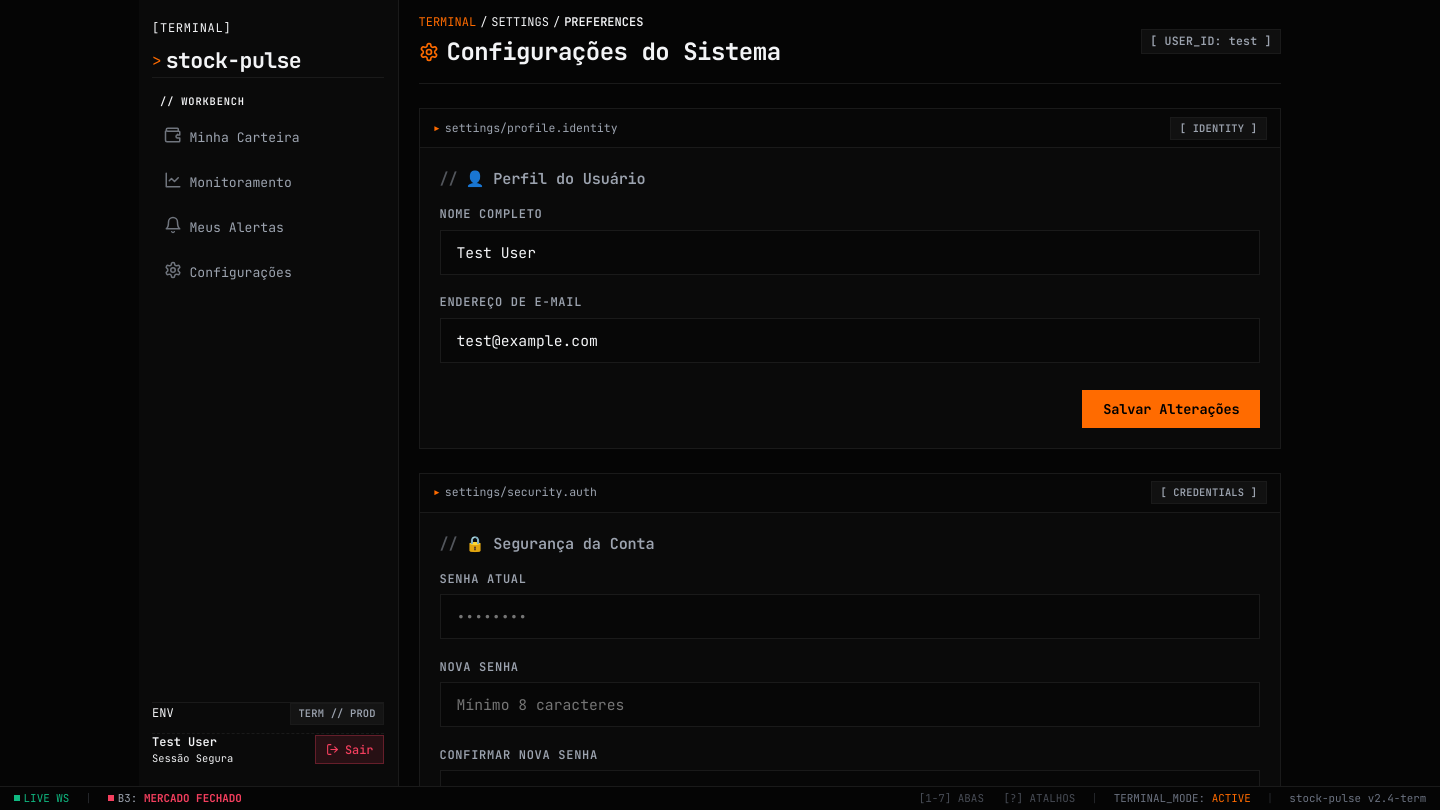
Test: SettingsPage › handles profile updates (success and error flows)
Replace the text in the field showing "Test User" below "Nome Completo" with "Updated Name" at (850, 252), box 440,230 -> 1260,275
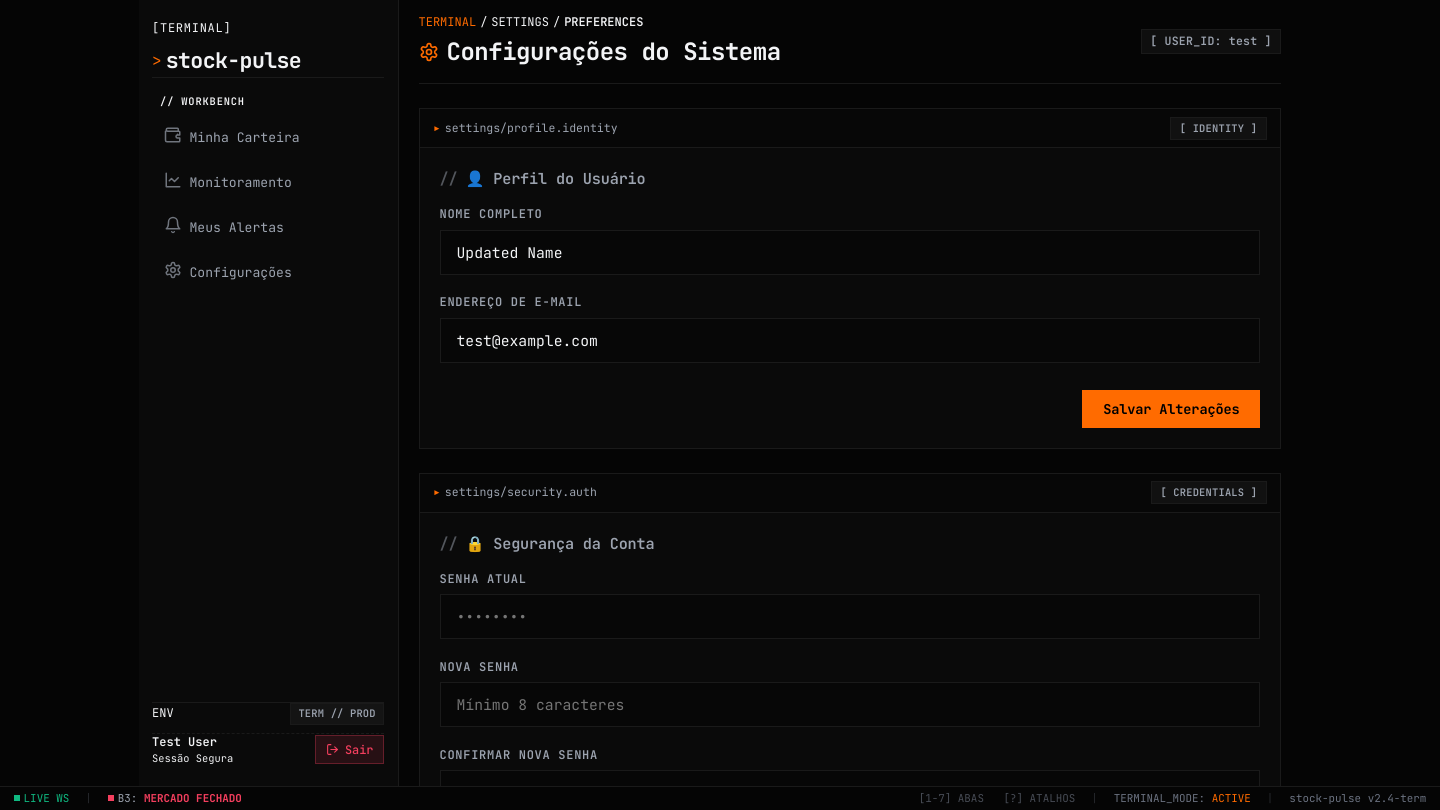
Replace the text in the field showing "test@example.com" below "Endereço de E-mail" with "updated@example.com" at (850, 340), box 440,318 -> 1260,363
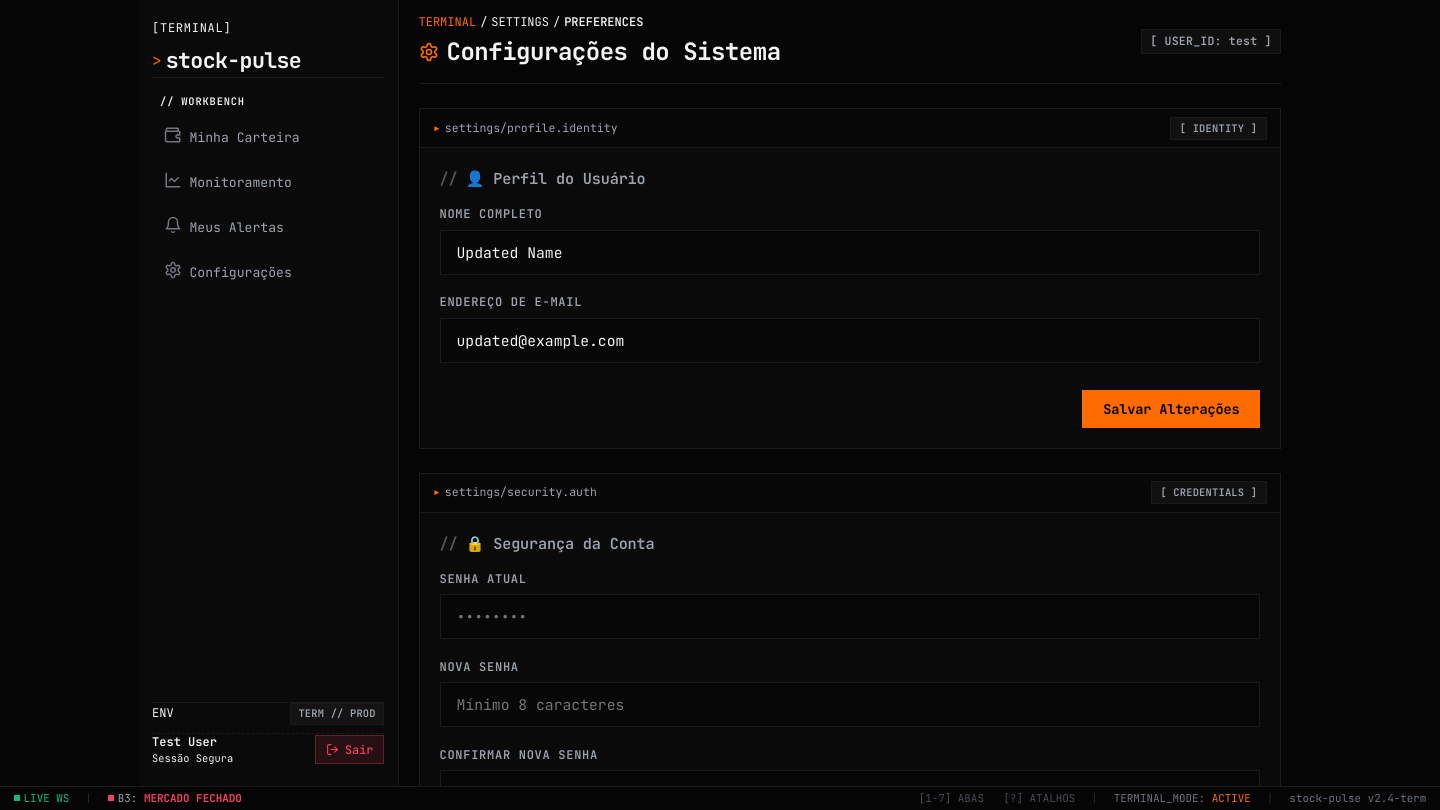
Click the button "Salvar Alterações" at (1171, 409), box 1082,390 -> 1260,428
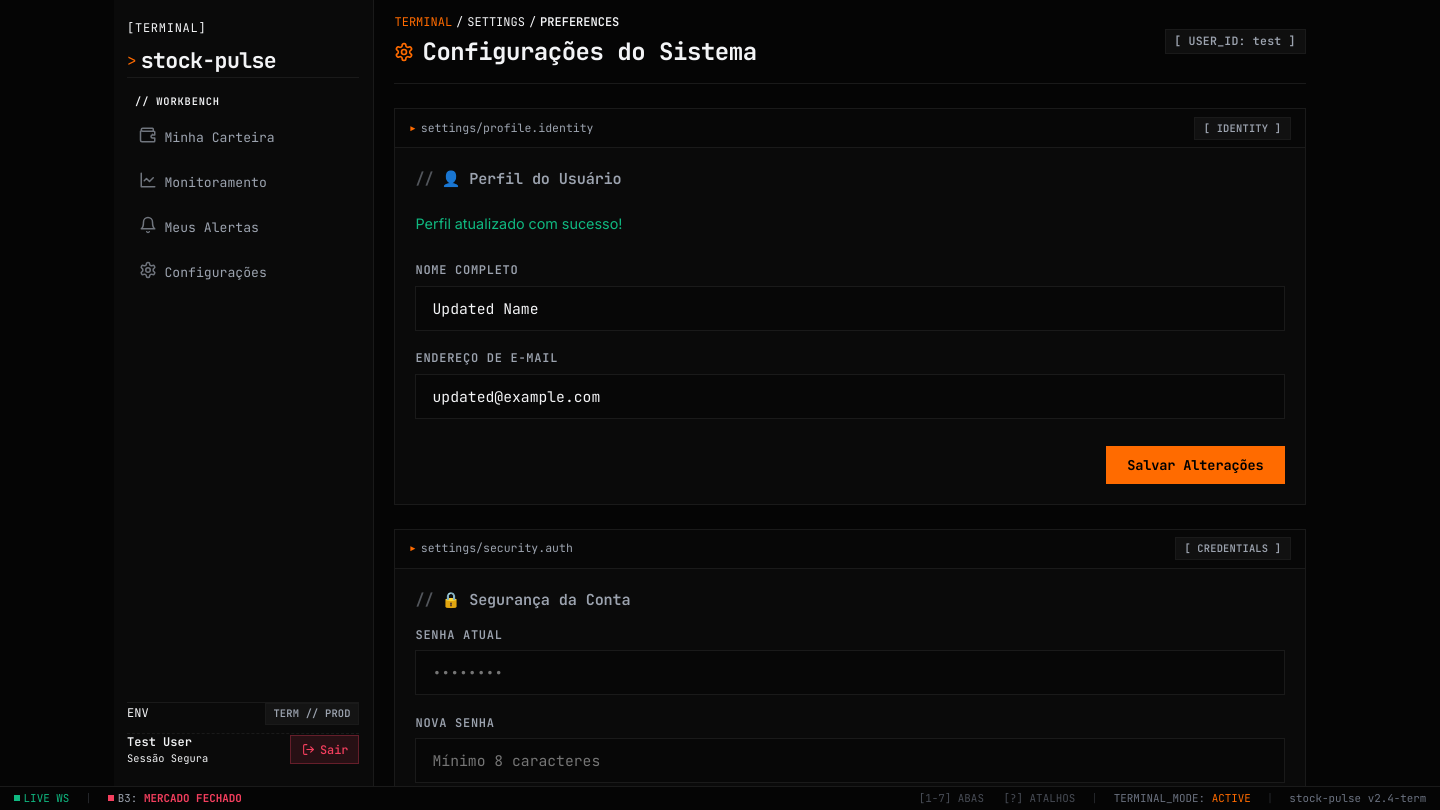
expect the text "Perfil atualizado com sucesso!" is shown: met, box 416,215 -> 622,232
Click the button "Salvar Alterações" at (1195, 465), box 1106,446 -> 1284,484
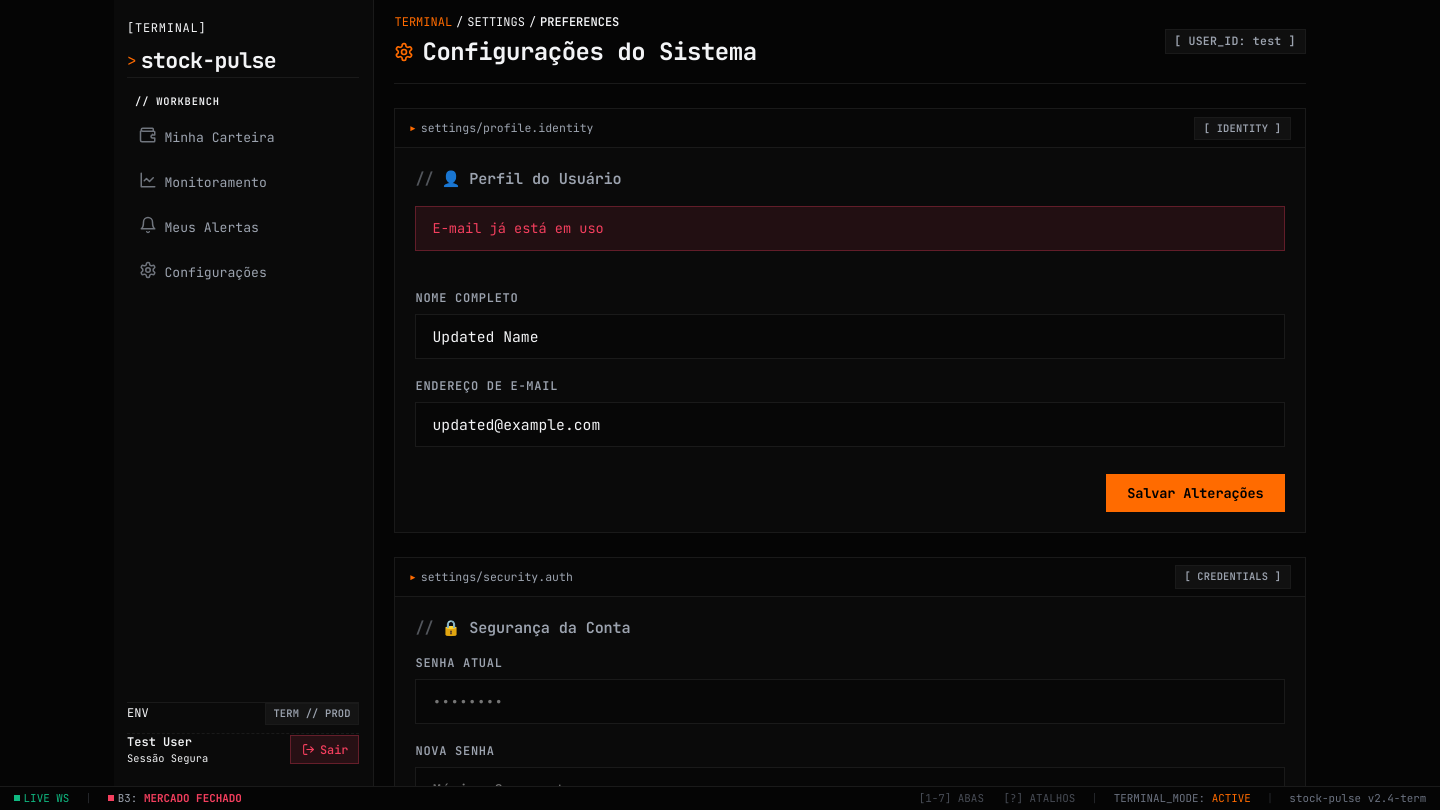
expect the text "E-mail já está em uso" is shown: met, box 416,206 -> 1284,251
Click the button "Salvar Alterações" at (1195, 493), box 1106,474 -> 1284,512
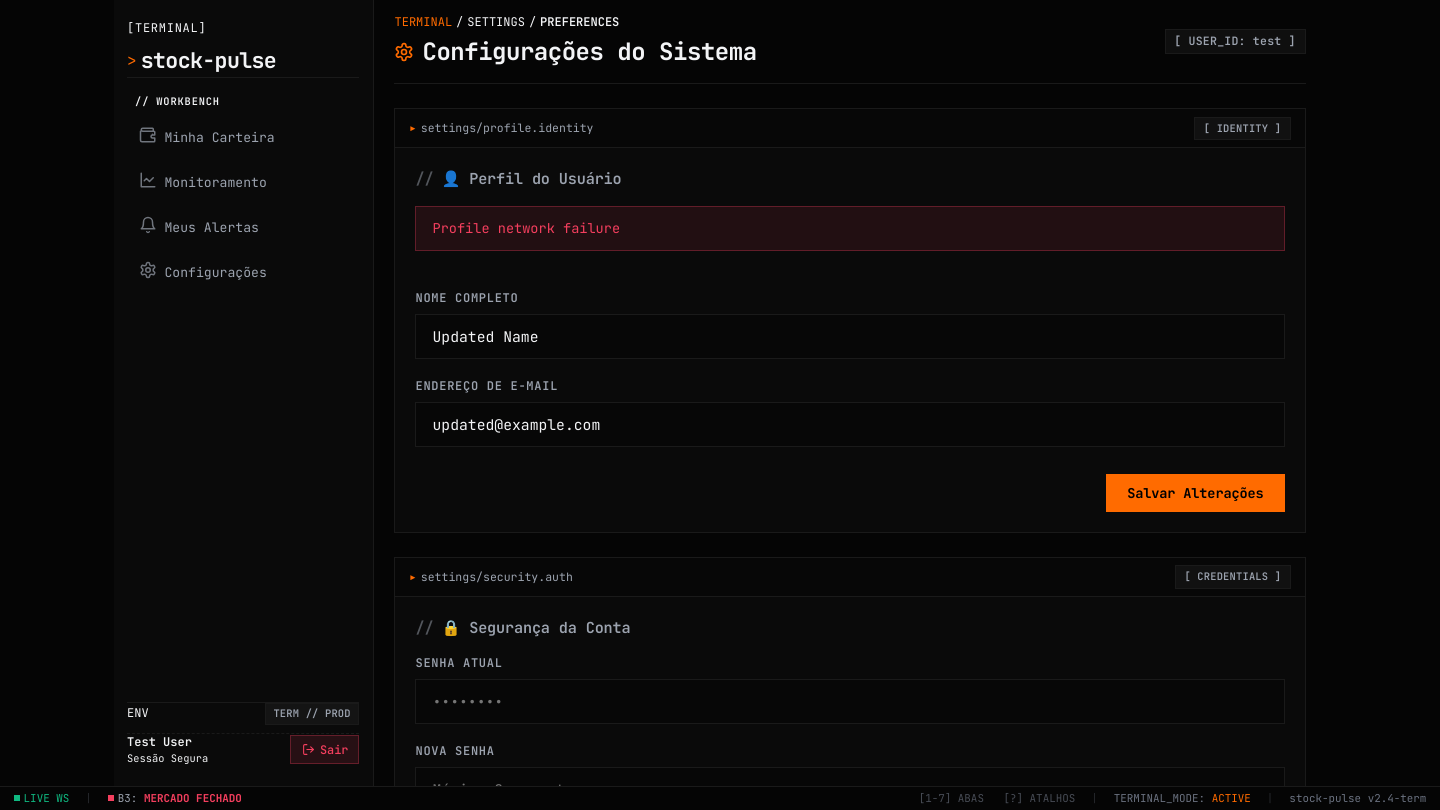
expect the text "Profile network failure" is shown: met, box 416,206 -> 1284,251
